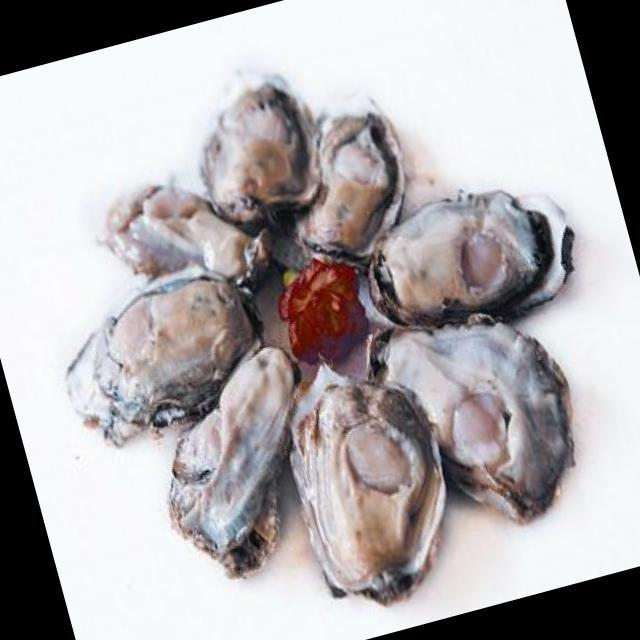Oyster-Open: (356, 286, 605, 558), (262, 334, 483, 624), (130, 332, 348, 598), (40, 246, 286, 464), (338, 162, 591, 347), (84, 140, 278, 322), (258, 79, 428, 274), (172, 53, 334, 237)
